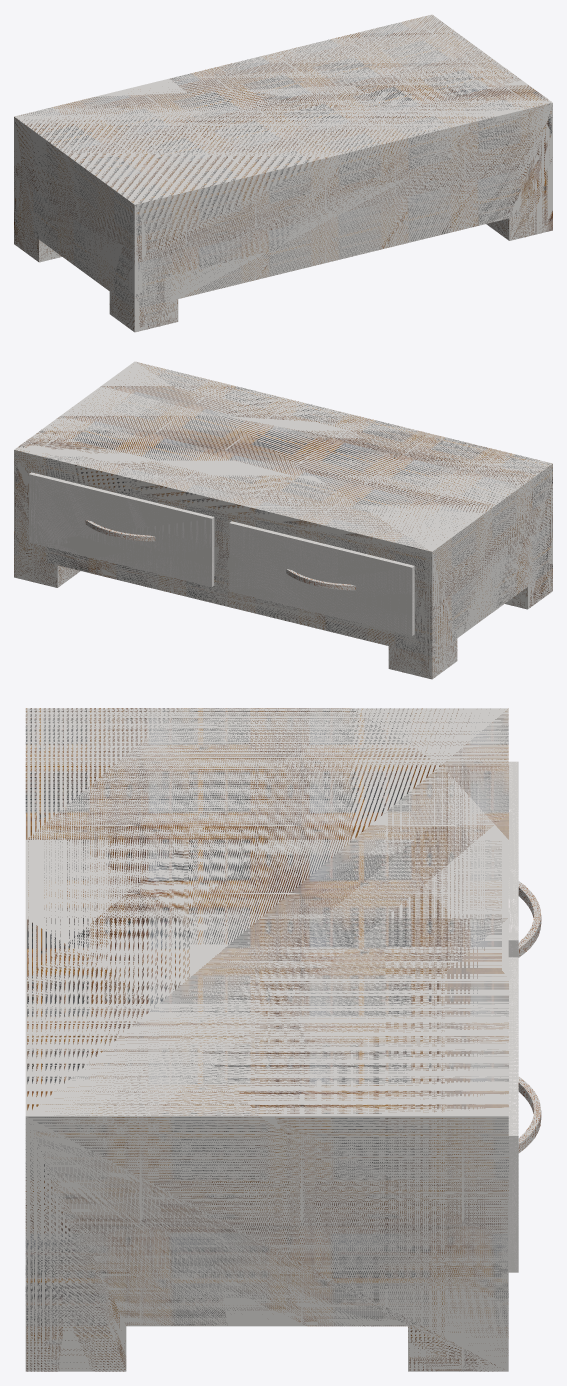
3 views of the same model, one above another, from view 1: azimuth 30°, elevation 25°; view 2: azimuth 150°, elevation 25°; view 3: azimuth 270°, elevation 25° (orthographic). The views are drawn at different scales.
Visible parts, largest first — view 1: mesh2_mesh2-geometry; view 2: mesh2_mesh2-geometry, mesh1_mesh1-geometry; view 3: mesh2_mesh2-geometry, mesh1_mesh1-geometry.
Part boxes in pixels (x1,y1,x2,y2): mesh2_mesh2-geometry: [14, 14, 552, 332]; mesh2_mesh2-geometry: [14, 361, 552, 679]; mesh1_mesh1-geometry: [85, 520, 355, 590]; mesh2_mesh2-geometry: [25, 708, 518, 1371]; mesh1_mesh1-geometry: [518, 881, 541, 1153].
Size of the model in its own units: 0.8544 by 0.2492 by 0.4559.
